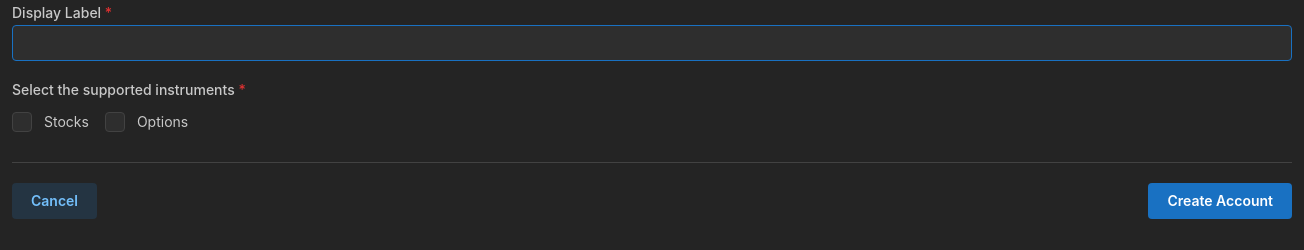
Test: TradeAccountForm › should fail to return values while having no instrument selections
In the field labelled "Display Label *": x=652, y=43 [12, 25, 1292, 61], type "Test Label"
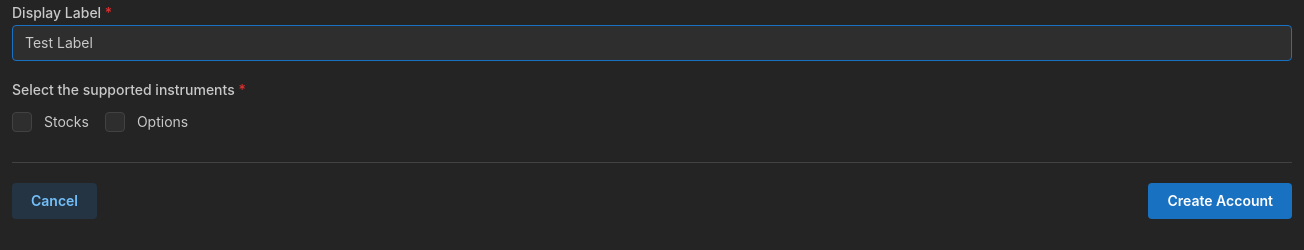
Click the button "Create Account": x=1220, y=201 [1148, 183, 1292, 219]
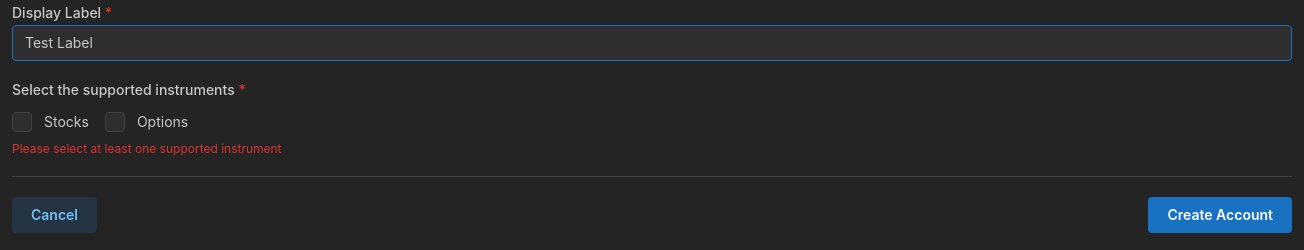
expect the text "Please select at least one supported instrument" is shown: met, box [12, 141, 282, 156]
